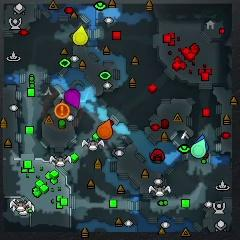Other: (55, 103, 69, 118)
p1: (195, 135, 208, 151)
p2: (191, 139, 206, 158)
p3: (65, 89, 80, 109)
p4: (72, 25, 88, 46)
p5: (97, 119, 113, 140)
